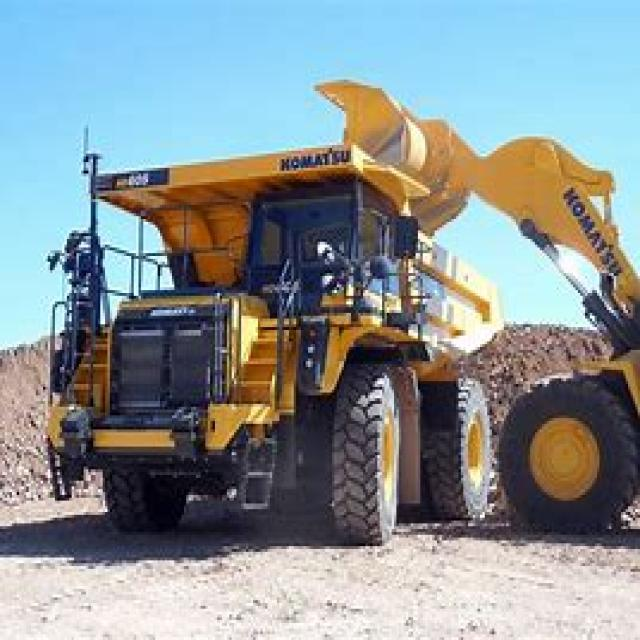dump_truck: (60, 130, 518, 538)
